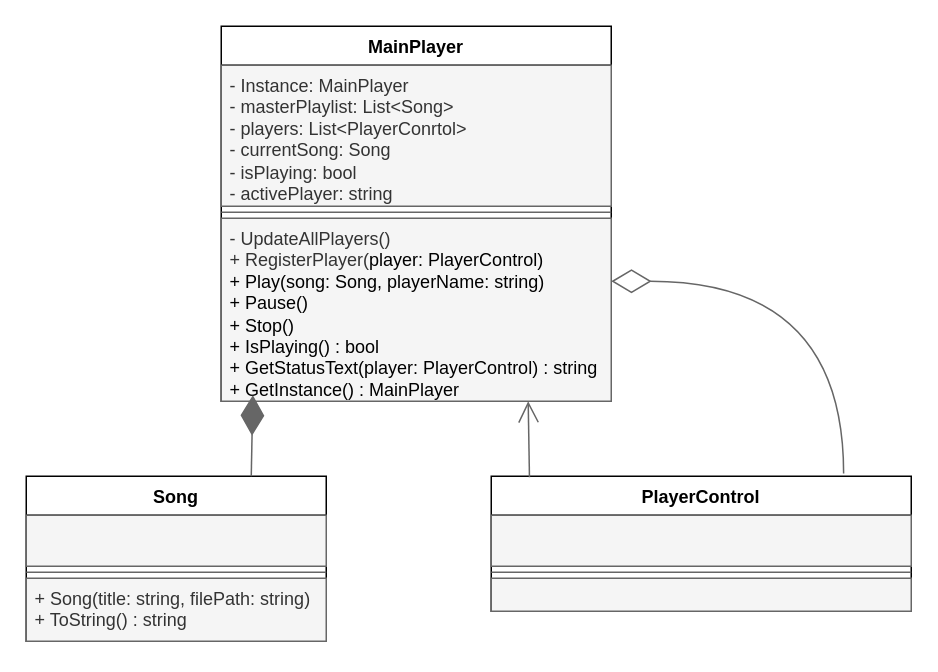
Some shapes in this 938 by 672 pixel diagram are drawn without their labels. Each missing label, with the centre of its shape:
+ UpdateStatus(): (700,594)
- playerName: string - mainPlayer: MainPlayer: (700,540)
- Title: string - FilePath: string: (175,540)
